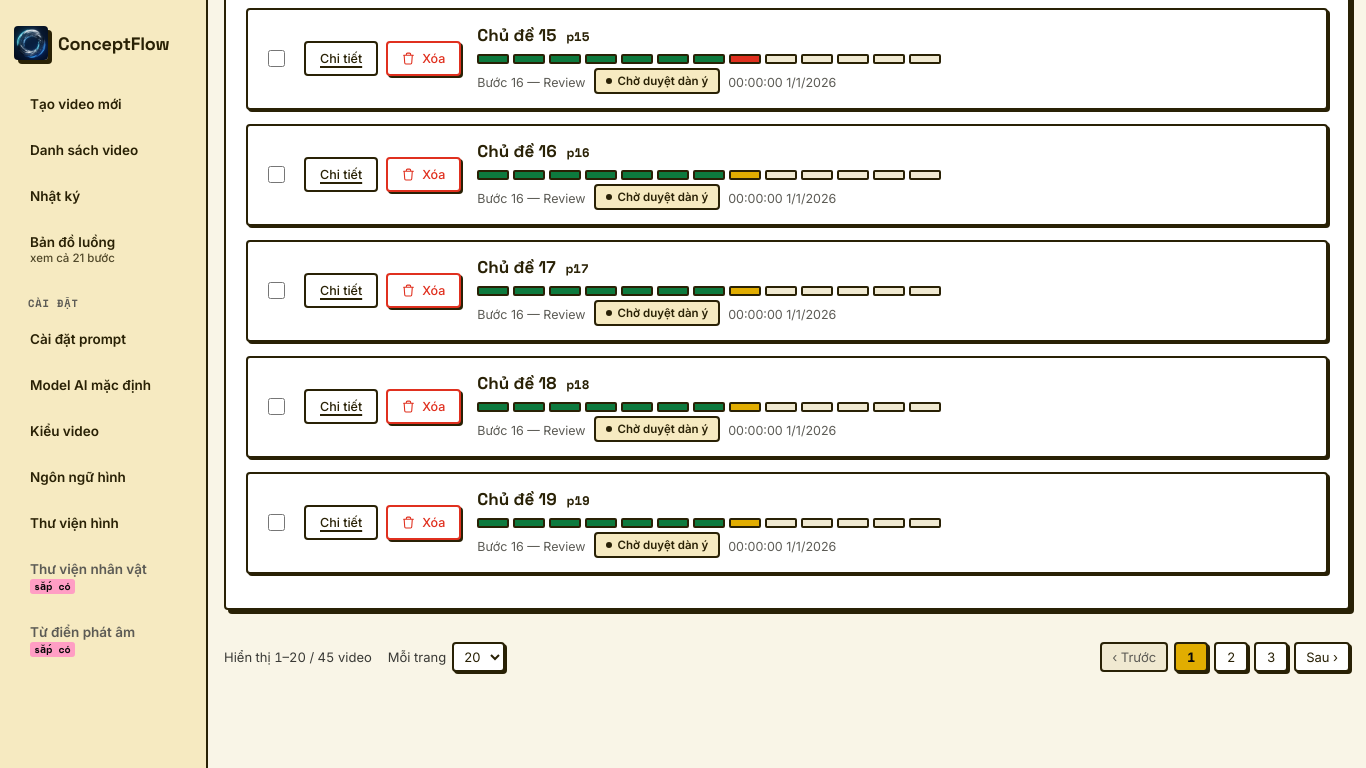
Scenario: VideoListPage › phân trang › shows 20 videos a page and moves between pages
This screenshot has width=1366, height=768.
(page scrolled)
Expected: the text with test id "pagination-summary" reads "Hiển thị 1–20 / 45 video", [224, 649, 372, 665]
Step 1. Click the button with test id "pagination-next" → point(1322, 657), box [1294, 642, 1350, 672]
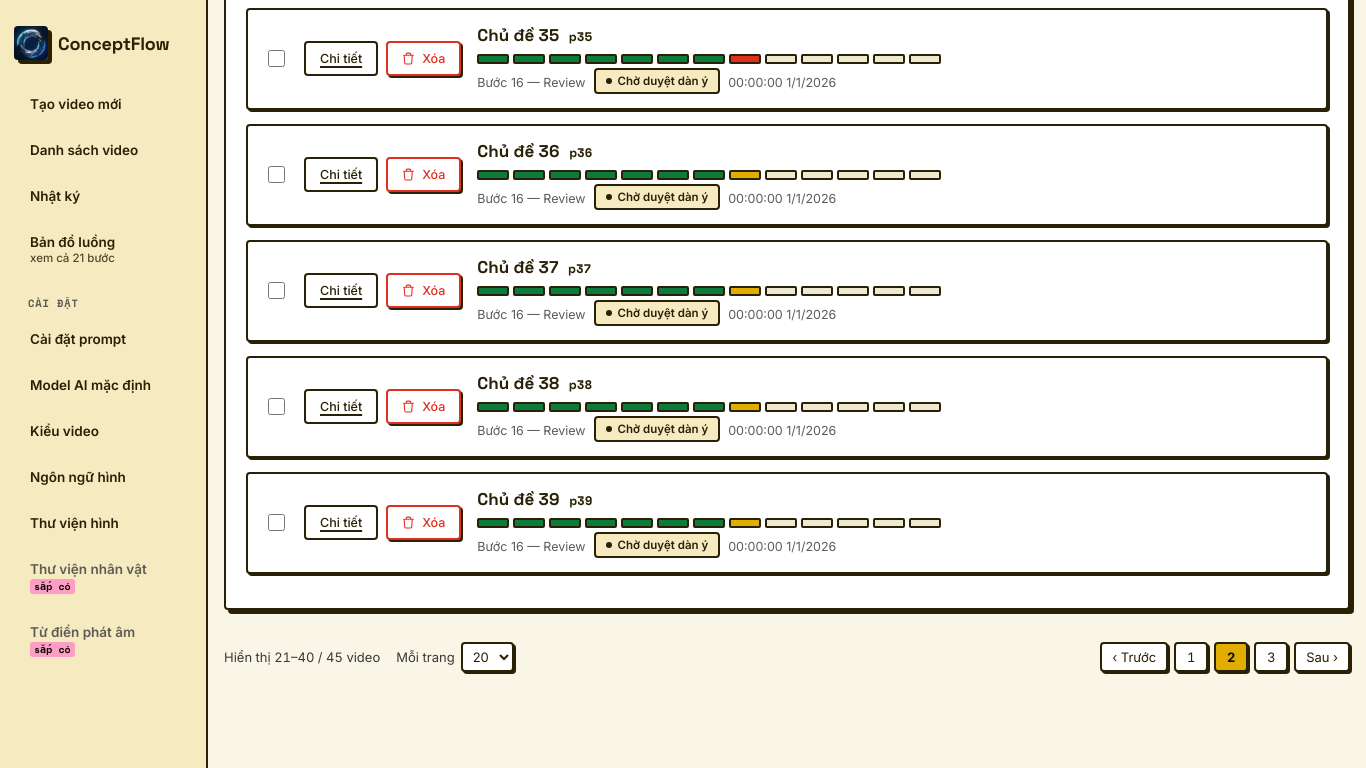
Step 2. Click the button with test id "pagination-page-3" → point(1271, 657), box [1254, 642, 1288, 672]
(page scrolled)
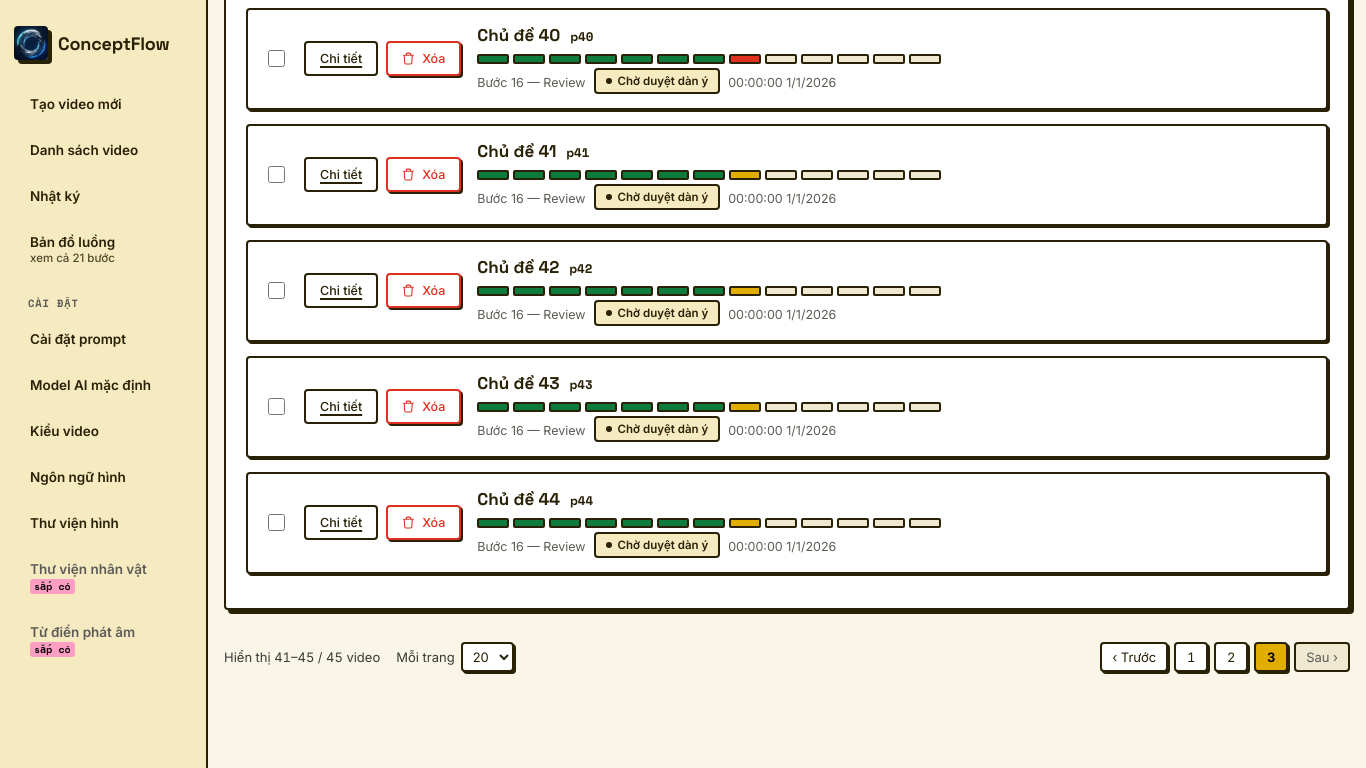
Expected: the text with test id "pagination-summary" reads "Hiển thị 41–45 / 45 video", [224, 649, 380, 665]
Expected: the number of pictures with test id "flow-mini" is 5, [477, 54, 941, 64]; [477, 170, 941, 180]; [477, 286, 941, 296]; [477, 402, 941, 412]; [477, 518, 941, 528]
